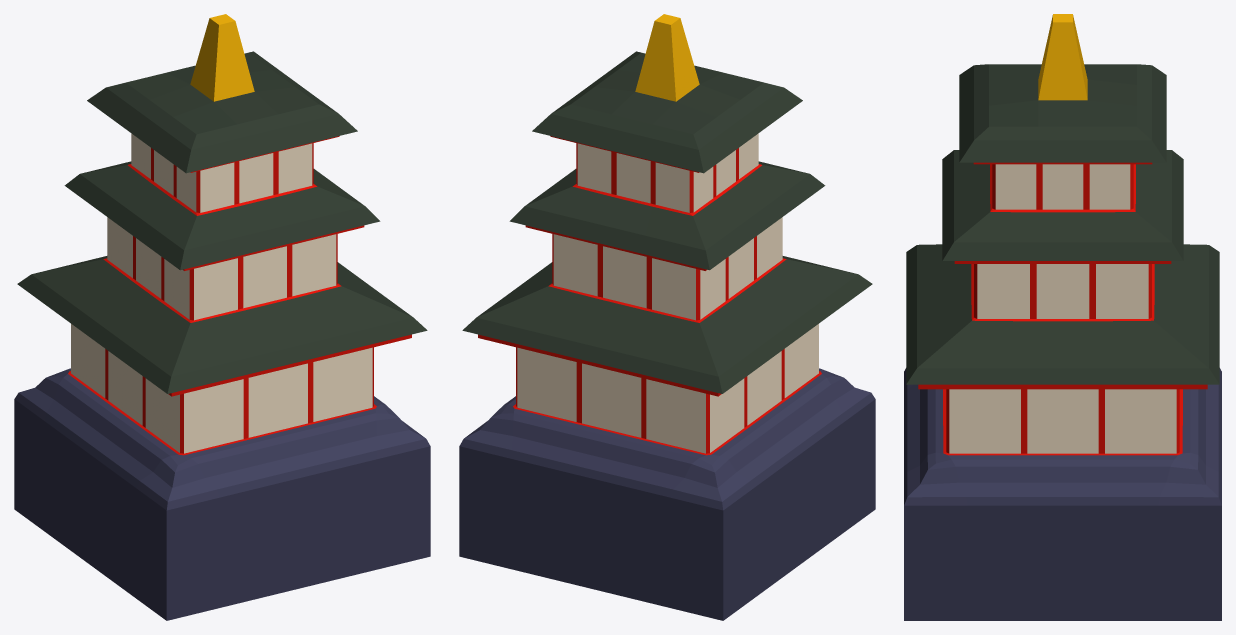
File: Pagoda(Rook).fbx
3 views of the same model, side by side, from view 1: azimuth 30°, elevation 25°; view 2: azimuth 150°, elevation 25°; view 3: azimuth 270°, elevation 25° (orthographic). The views are drawn at different scales.
Visible parts, largest first — view 1: Pagoda; view 2: Pagoda; view 3: Pagoda.
Boxes of the visible parts, x1,y1,x2,y2 form: Pagoda: (14, 14, 430, 620); Pagoda: (459, 14, 875, 620); Pagoda: (904, 14, 1221, 620).
Size of the model in its own units: 200 by 372 by 200.
